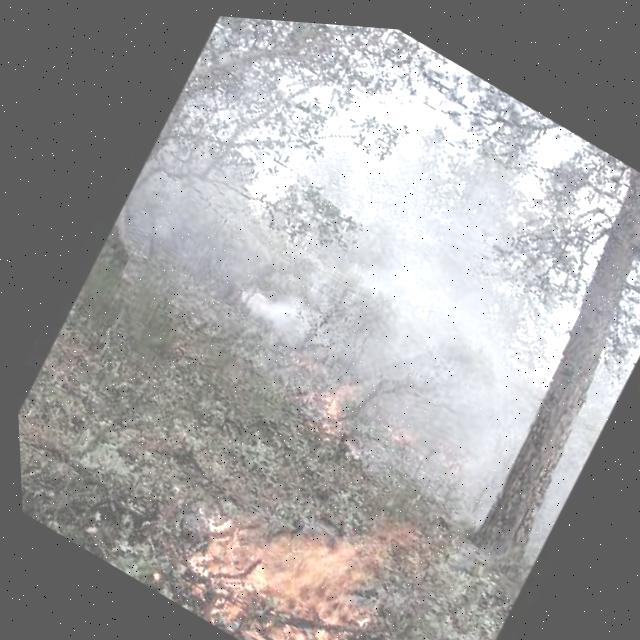Fire: (147, 399, 441, 640), (255, 336, 386, 460)
Smoke: (231, 86, 628, 518)
